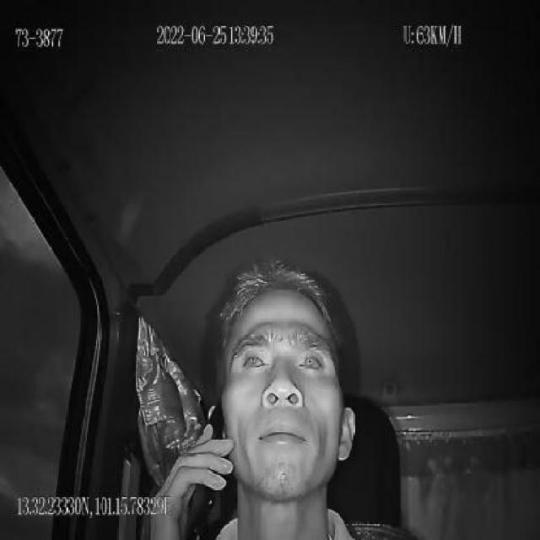phone: (180, 394, 222, 540)
